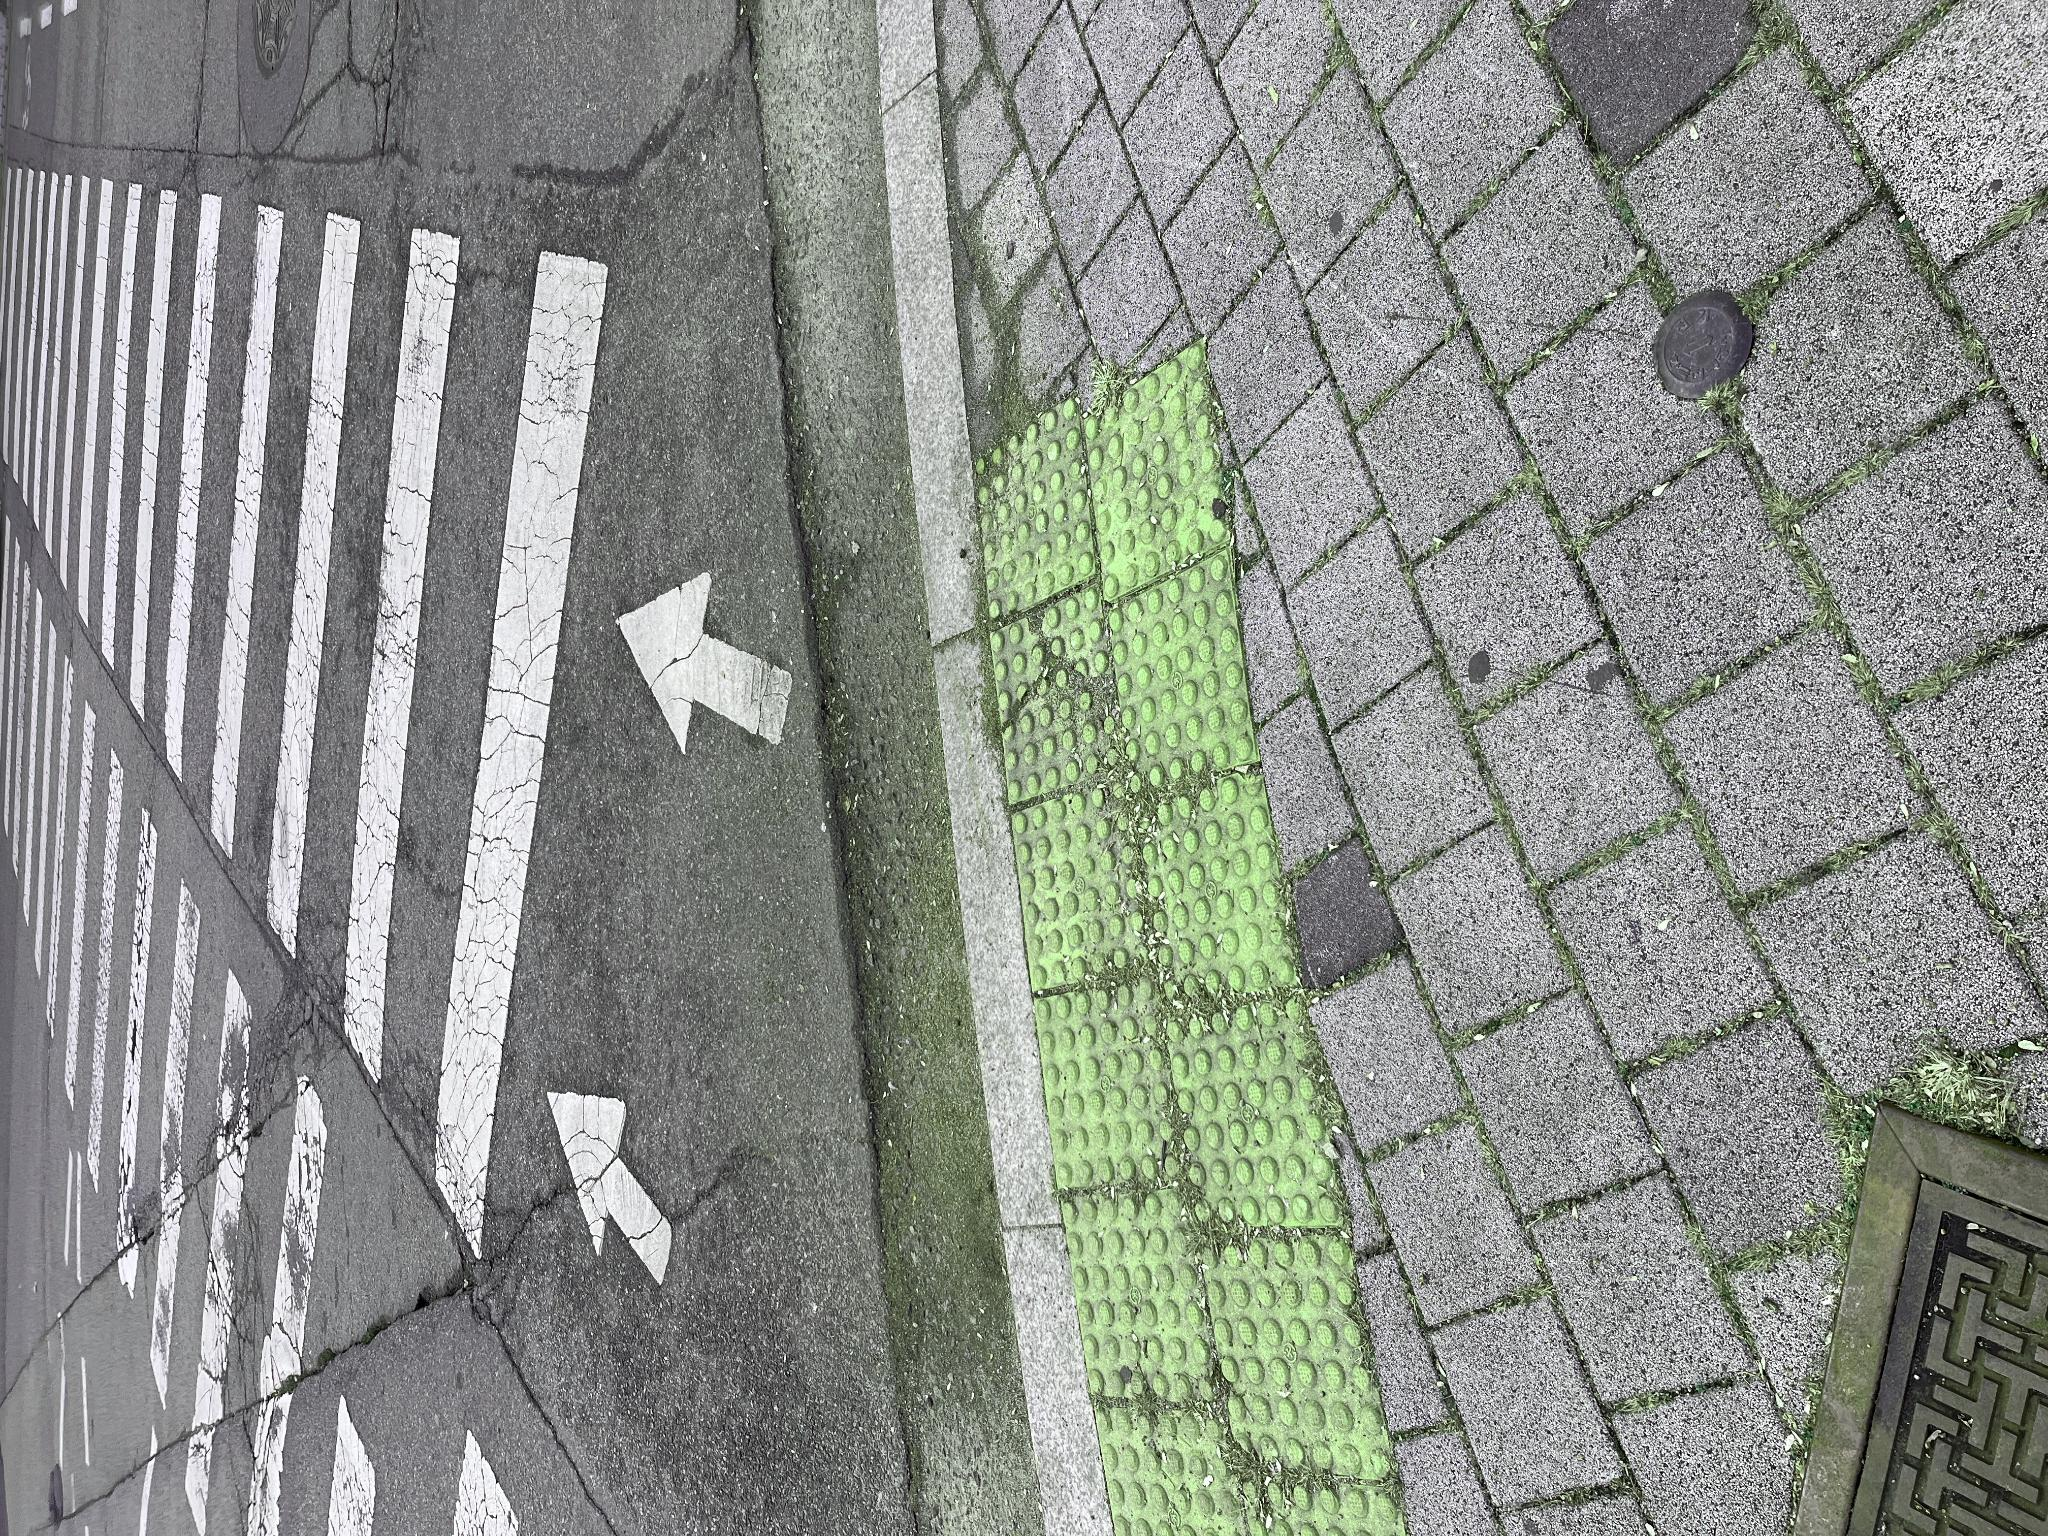Stop block broken: (732, 991, 953, 1128)
Stop block normal: (308, 1163, 543, 1344), (132, 1062, 348, 1221)
